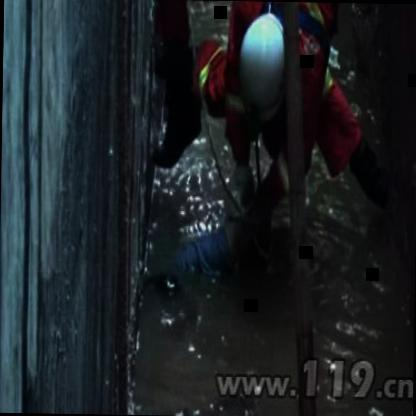helmet: (240, 9, 294, 124)
